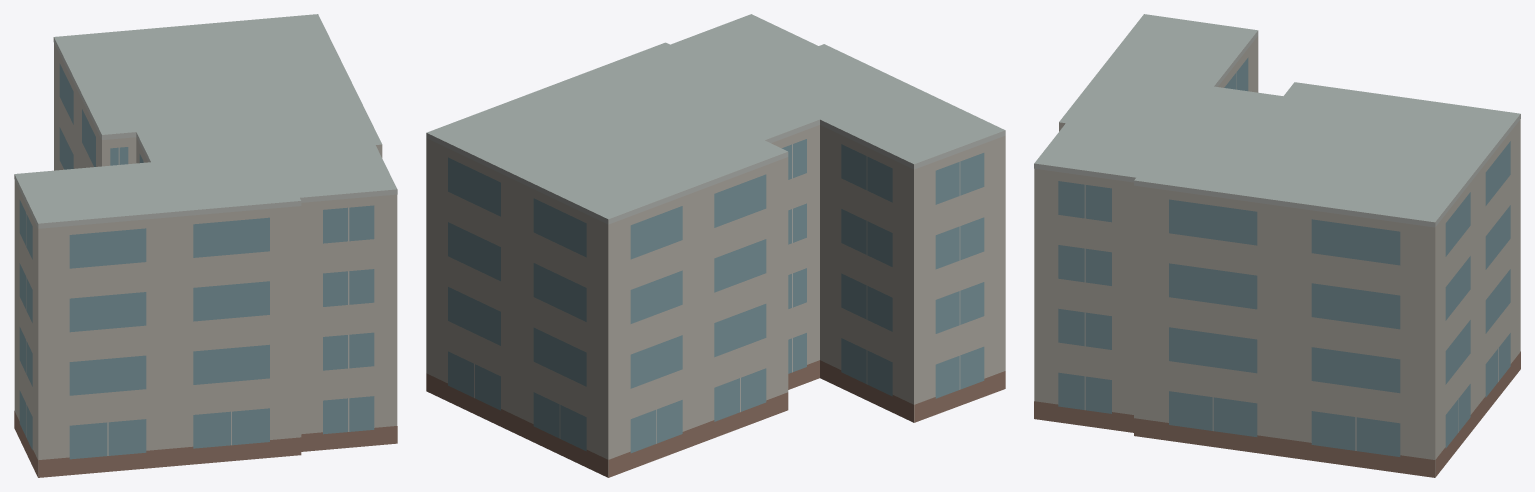
The model's file is survey-upis-32828861.glb.
3 views of the same model, side by side, from view 1: azimuth 30°, elevation 25°; view 2: azimuth 150°, elevation 25°; view 3: azimuth 270°, elevation 25° (orthographic).
Visible parts, largest first — view 1: survey-upis-32828861.tmp; view 2: survey-upis-32828861.tmp; view 3: survey-upis-32828861.tmp.
Part boxes in pixels (x1=…): survey-upis-32828861.tmp: x1=14, y1=14, x2=397, y2=477; survey-upis-32828861.tmp: x1=426, y1=14, x2=1005, y2=477; survey-upis-32828861.tmp: x1=1034, y1=14, x2=1520, y2=477.
Size of the model in its own units: 20.99 by 12 by 20.72.
